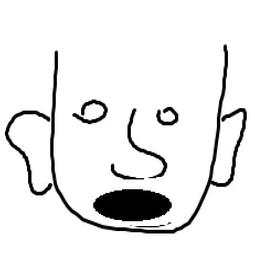empty_eye: (72, 91, 111, 129), (152, 103, 184, 128)
large_ear: (3, 107, 58, 197), (207, 105, 251, 195)
large_nose: (101, 104, 171, 185)
open_mouth: (94, 187, 174, 224)
